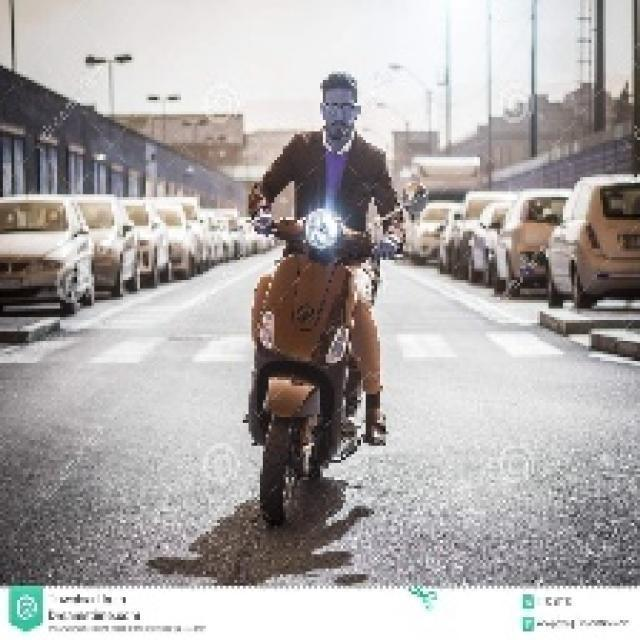Motorcycle: (223, 219, 366, 511)
